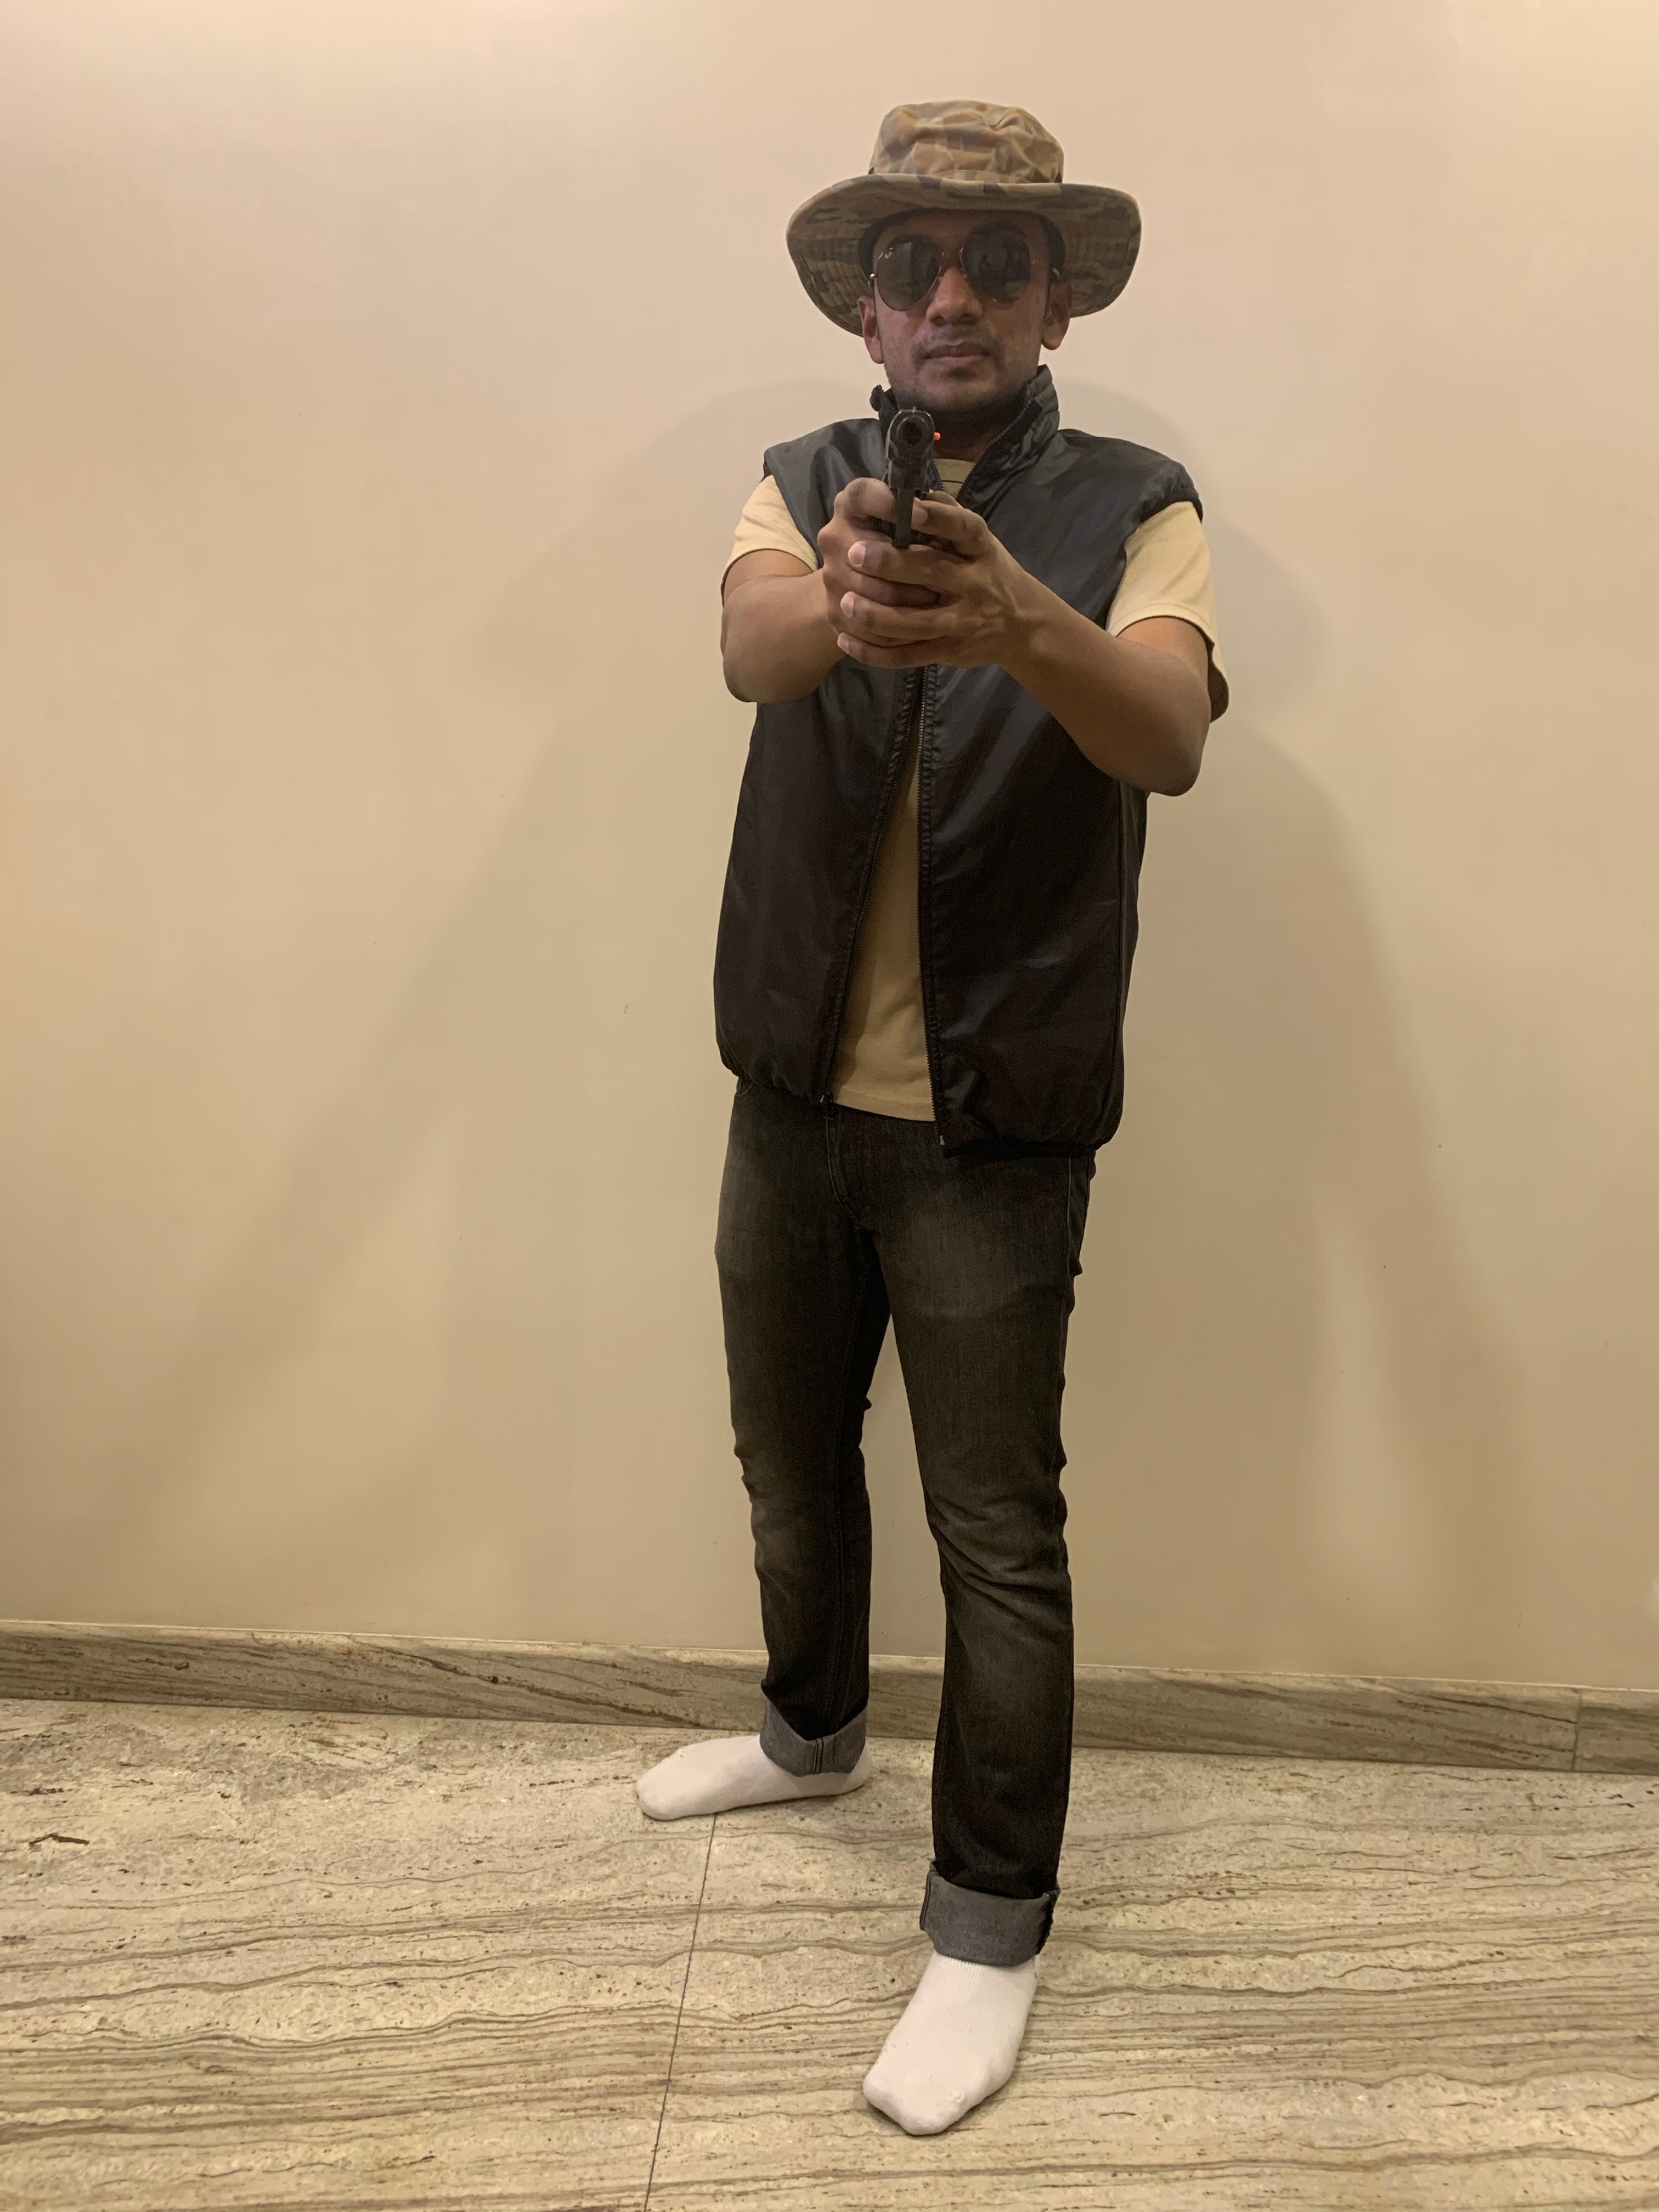gun: (871, 394, 948, 587)
